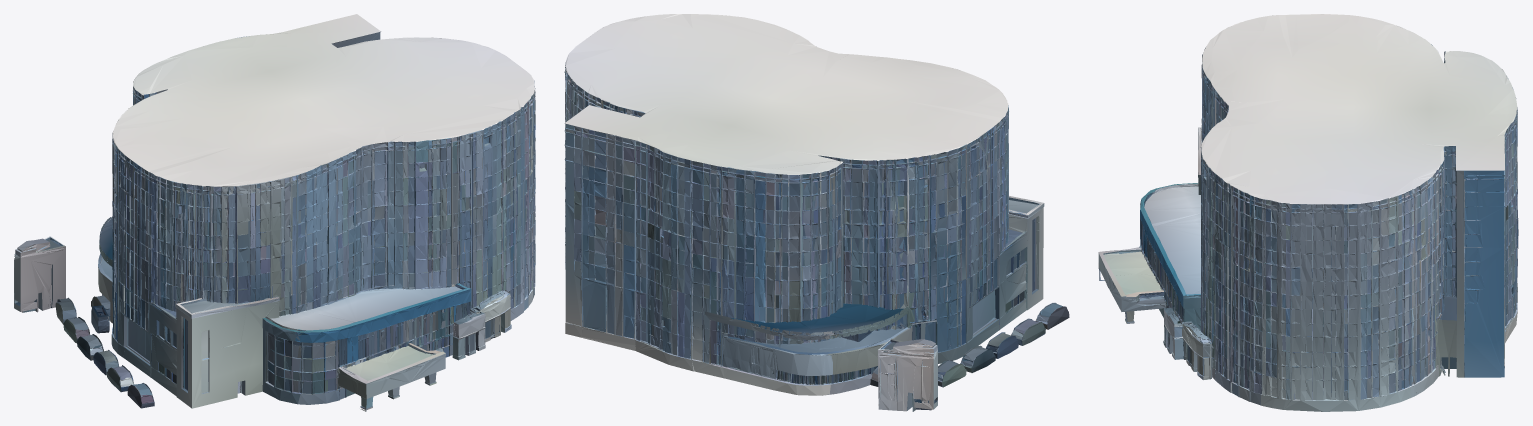
The model's file is construction-09.glb.
3 renders of one model, left to right at view 1: azimuth 30°, elevation 25°; view 2: azimuth 150°, elevation 25°; view 3: azimuth 270°, elevation 25°, orthographic. The views are drawn at different scales.
Visible parts, largest first — view 1: tmph48prsdi.obj; view 2: tmph48prsdi.obj; view 3: tmph48prsdi.obj.
Part boxes in pixels (bbox=[...]): tmph48prsdi.obj: bbox=[14, 14, 535, 411]; tmph48prsdi.obj: bbox=[564, 14, 1069, 411]; tmph48prsdi.obj: bbox=[1098, 14, 1518, 411].
Size of the model in its own units: 1.64 by 0.7663 by 1.4.
Materials: 1 (1 with a texture image).
